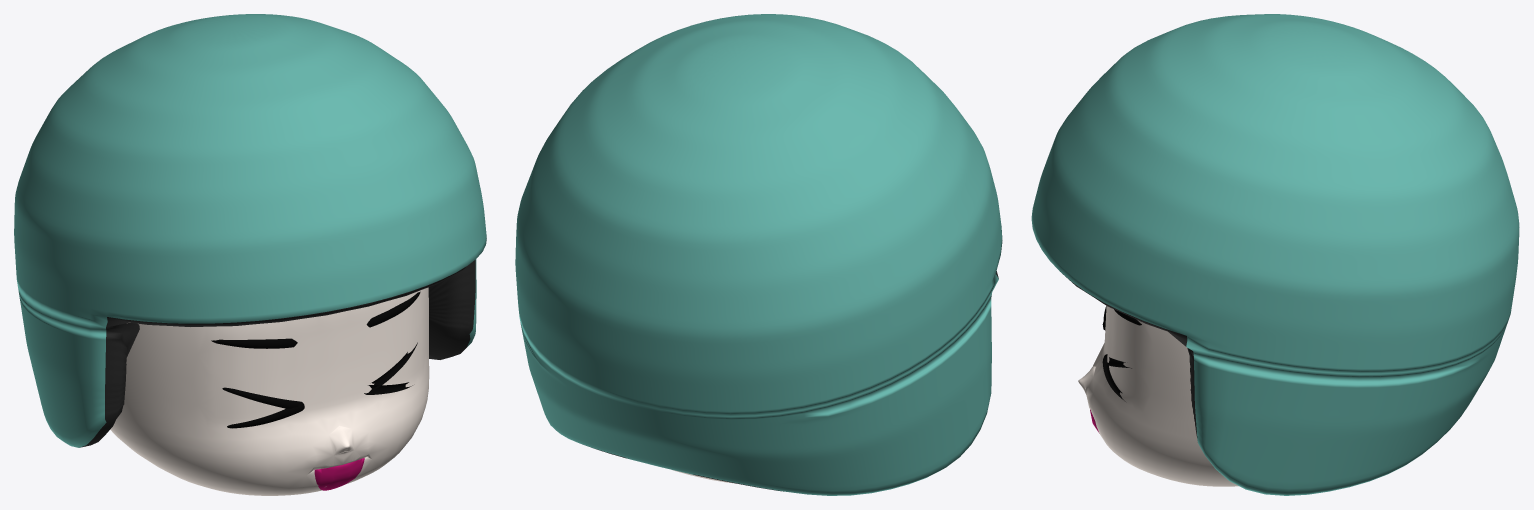
Rendered from Head2.fbx.
3 views of the same model, side by side, from view 1: azimuth 30°, elevation 25°; view 2: azimuth 150°, elevation 25°; view 3: azimuth 270°, elevation 25° (orthographic). The views are drawn at different scales.
Visible parts, largest first — view 1: Cube.002; view 2: Cube.002; view 3: Cube.002.
Part boxes in pixels (bbox=[...]): Cube.002: bbox=[14, 14, 486, 495]; Cube.002: bbox=[515, 14, 1002, 495]; Cube.002: bbox=[1031, 14, 1519, 495].
Size of the model in its own units: 504 by 493 by 528.
